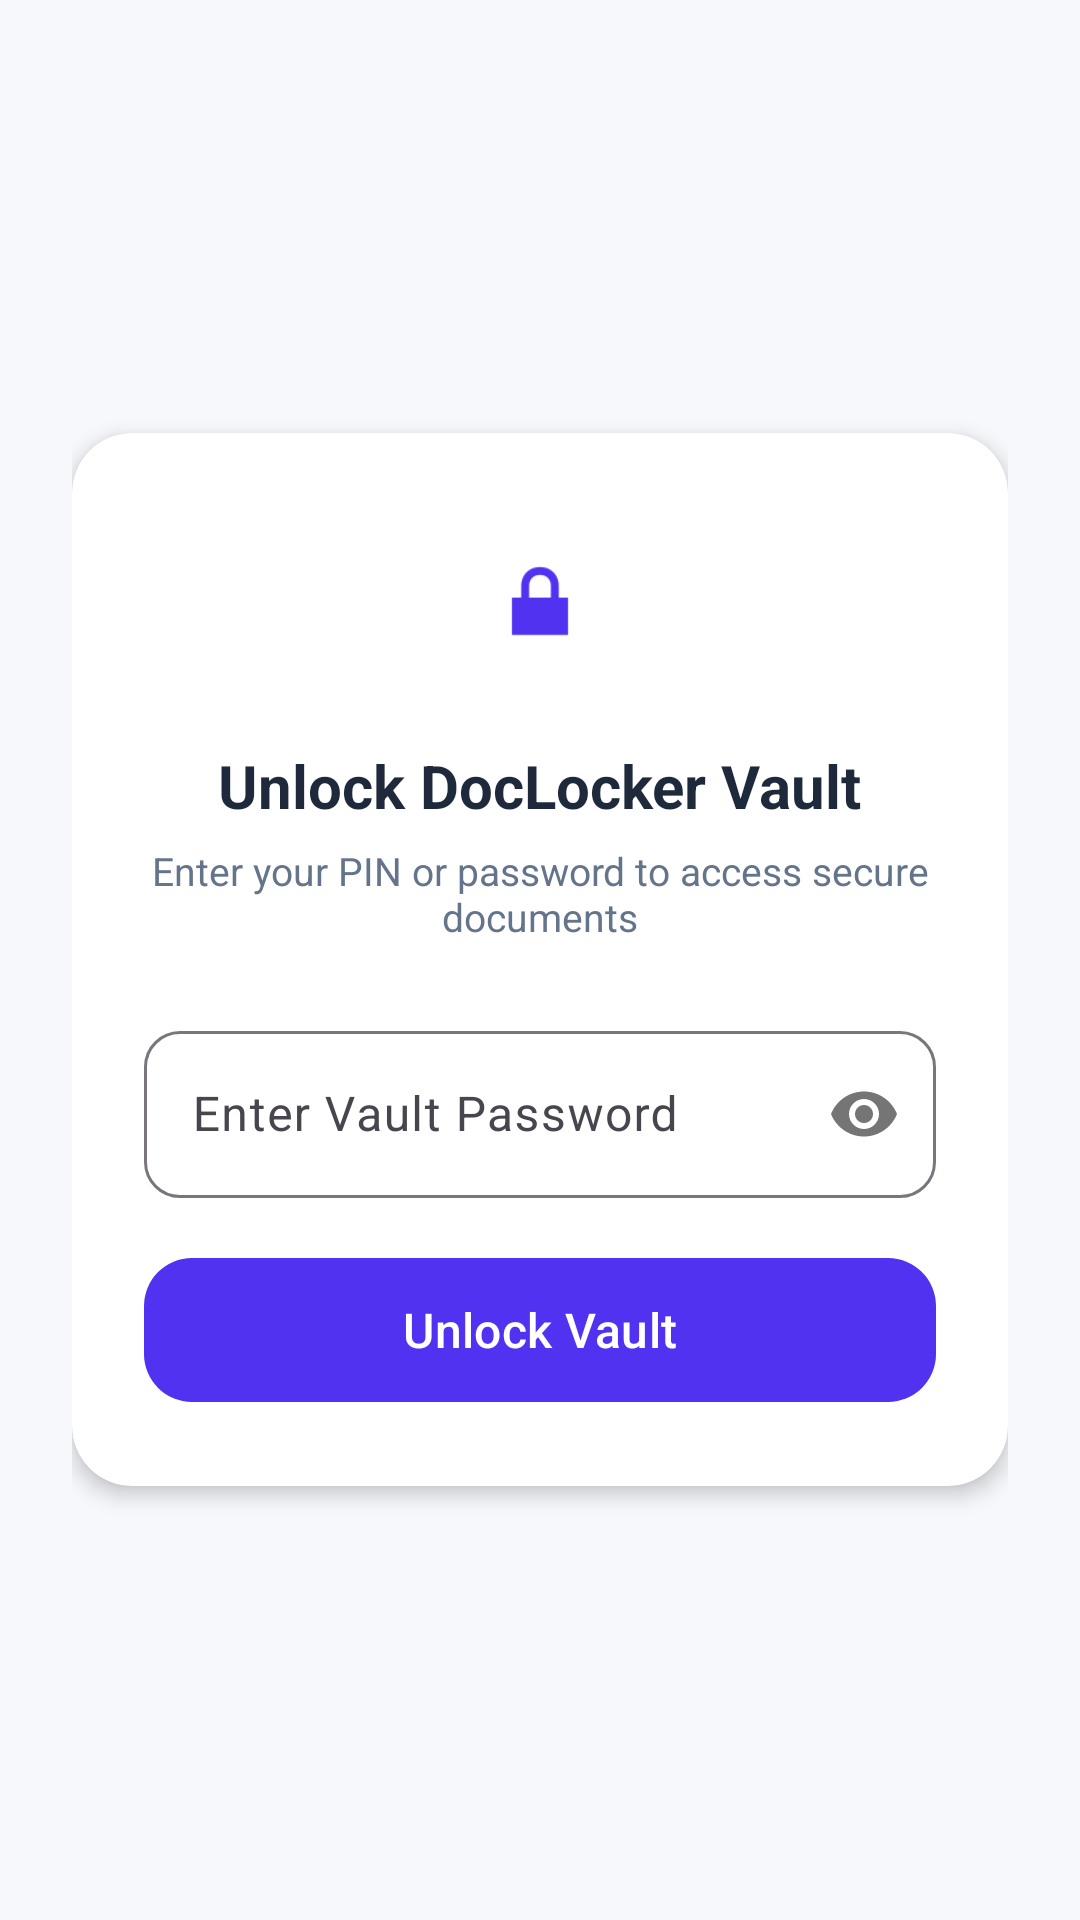

Icon click points for this 1080 x 1920 phone screenshot, format point (x, y):
Lock Icon: point (540, 601)
